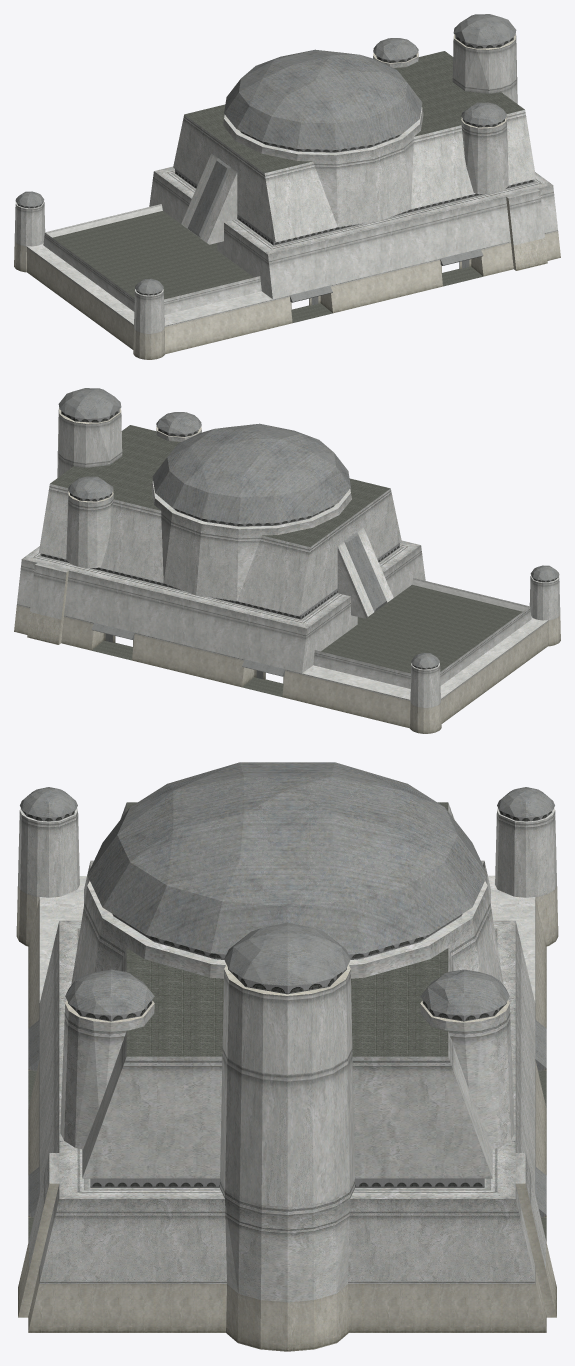
Rendered from mun_corl_hospital_s01_r0_mesh_l1.fbx.
3 views of the same model, one above another, from view 1: azimuth 30°, elevation 25°; view 2: azimuth 150°, elevation 25°; view 3: azimuth 270°, elevation 25° (orthographic). The views are drawn at different scales.
Parts seen in each view (by area): view 1: mesh_node; view 2: mesh_node; view 3: mesh_node.
Boxes of the visible parts, x1,y1,x2,y2 form: mesh_node: (14,14,560,359); mesh_node: (14,388,560,733); mesh_node: (16,762,558,1351).
Bounding box in the file's own units: 97.9 × 41.44 × 52.24.
